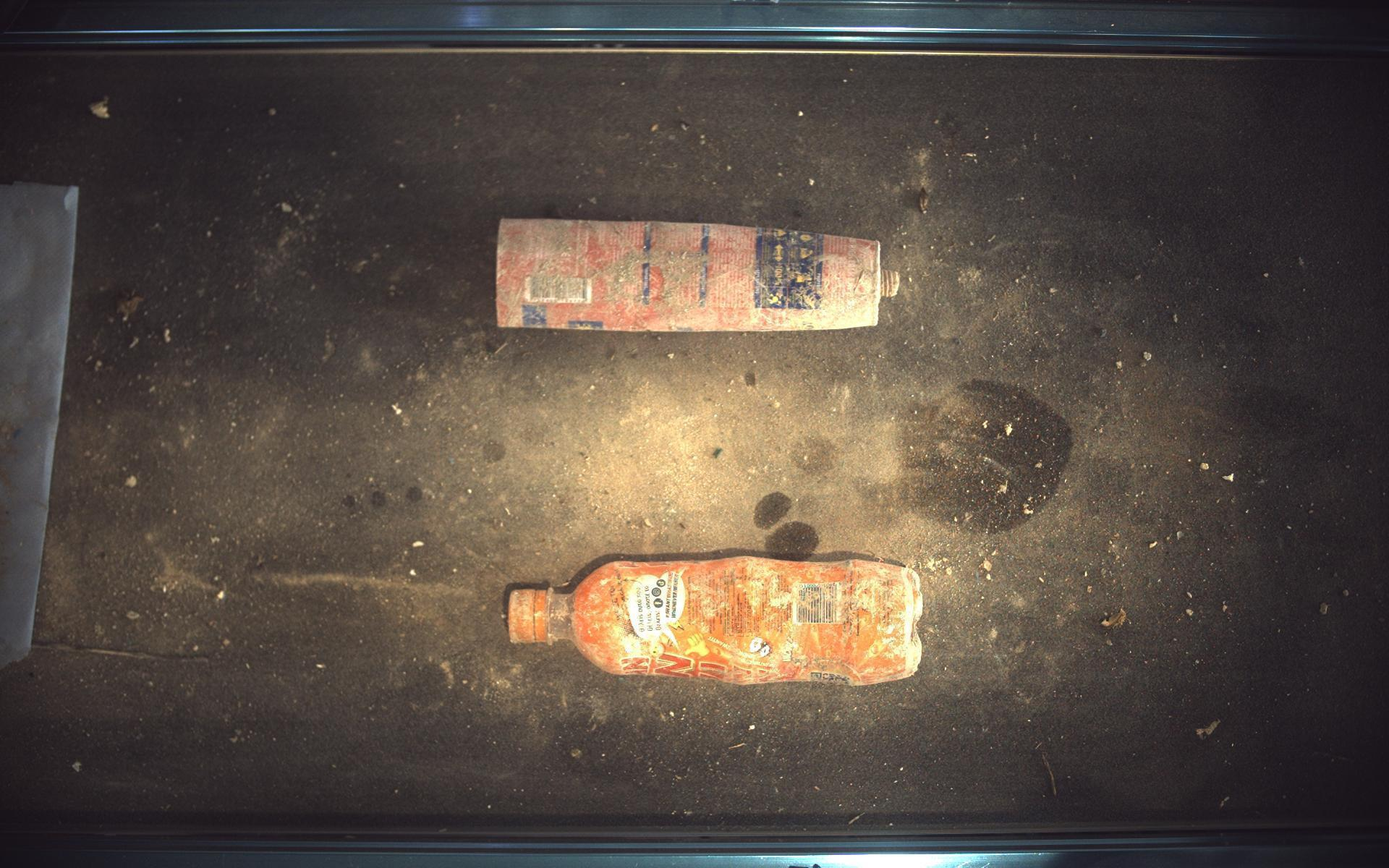plastic: (496, 218, 900, 331)
